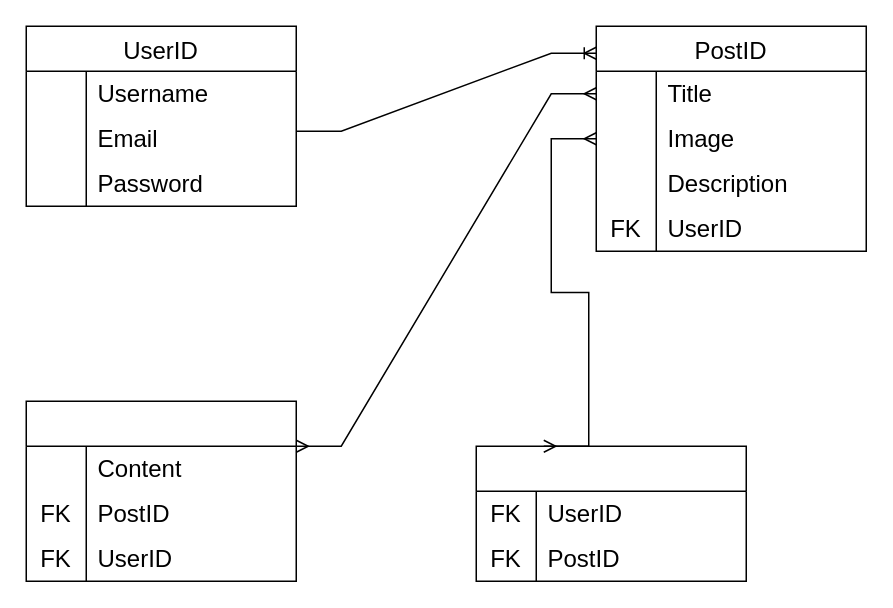
This 893x608 diagram has some shape labels left out. Each missing label, with the box of its shape:
CommentID: (25, 400, 296, 581)
LikeID: (475, 445, 746, 581)
